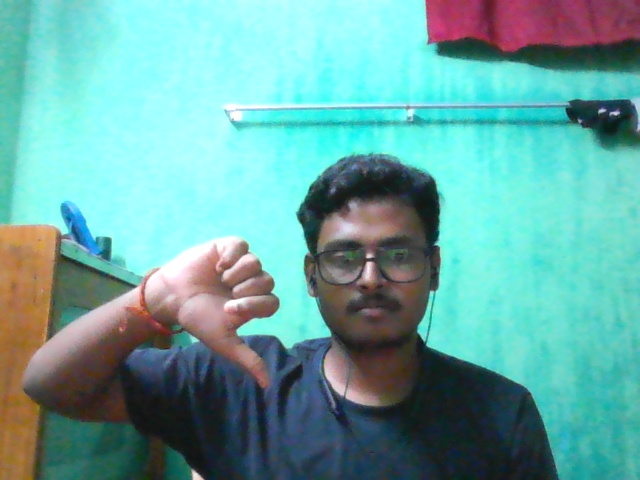ThumbsDown: (154, 232, 282, 390)
